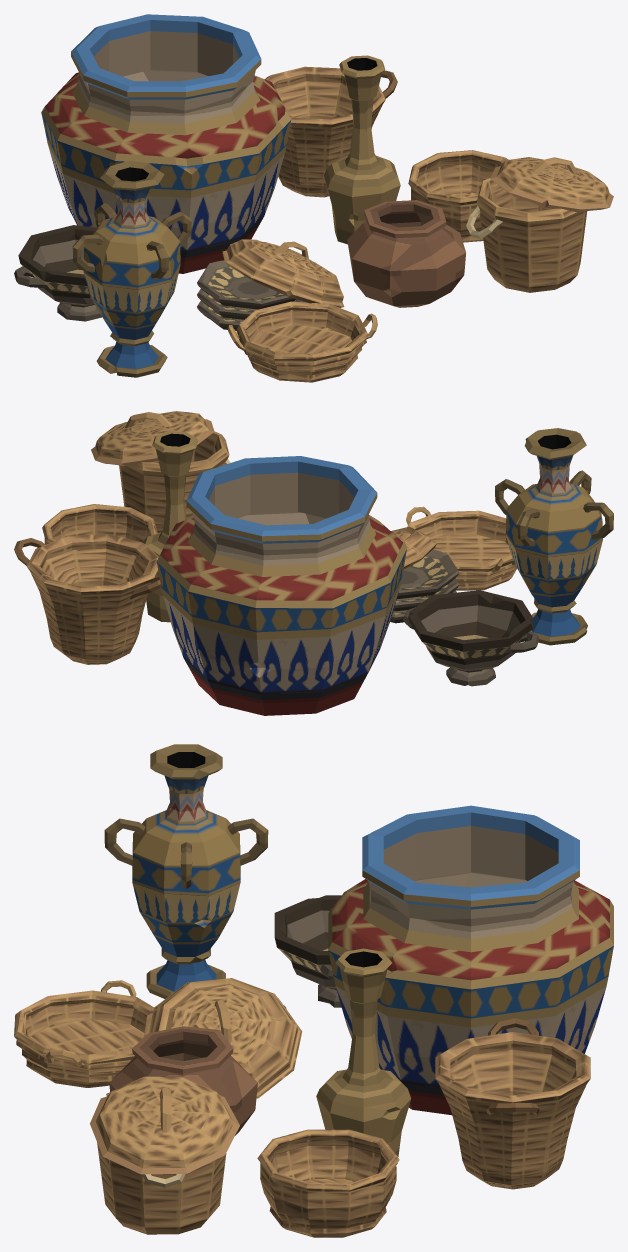
File: SM_Prop_Vase_Pile_02.fbx
3 views of the same model, one above another, from view 1: azimuth 30°, elevation 25°; view 2: azimuth 150°, elevation 25°; view 3: azimuth 270°, elevation 25° (orthographic). The views are drawn at different scales.
Parts seen in each view (by area): view 1: SM_Prop_Vase_Pile_02; view 2: SM_Prop_Vase_Pile_02; view 3: SM_Prop_Vase_Pile_02.
Part boxes in pixels (<box>): SM_Prop_Vase_Pile_02: <box>14,14,613,382</box>; SM_Prop_Vase_Pile_02: <box>14,411,613,715</box>; SM_Prop_Vase_Pile_02: <box>14,744,613,1237</box>.
Size of the model in its own units: 300 by 106 by 250.
